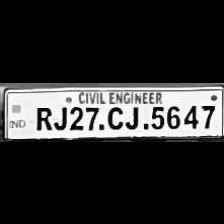2: (64, 102, 84, 130)
4: (181, 101, 199, 127)
5: (146, 101, 164, 129)
6: (164, 102, 182, 128)
7: (84, 103, 103, 130), (198, 101, 216, 127)
C: (104, 101, 124, 128)
J: (124, 101, 142, 128), (52, 103, 66, 130)
R: (31, 102, 54, 130)
